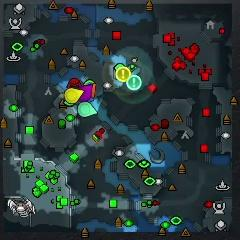Other: (126, 75, 142, 90), (116, 67, 131, 82)
p2: (78, 102, 98, 118)
p3: (77, 84, 93, 102)
p4: (64, 88, 84, 104)
p5: (92, 83, 96, 100)
x3: (130, 67, 141, 75)
